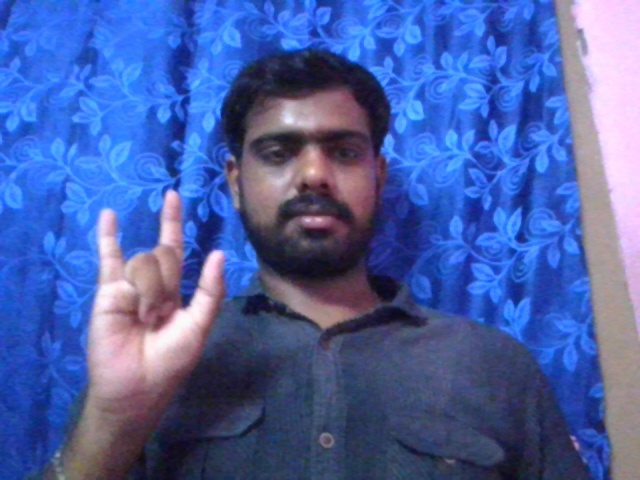IloveYou: (81, 188, 231, 397)
